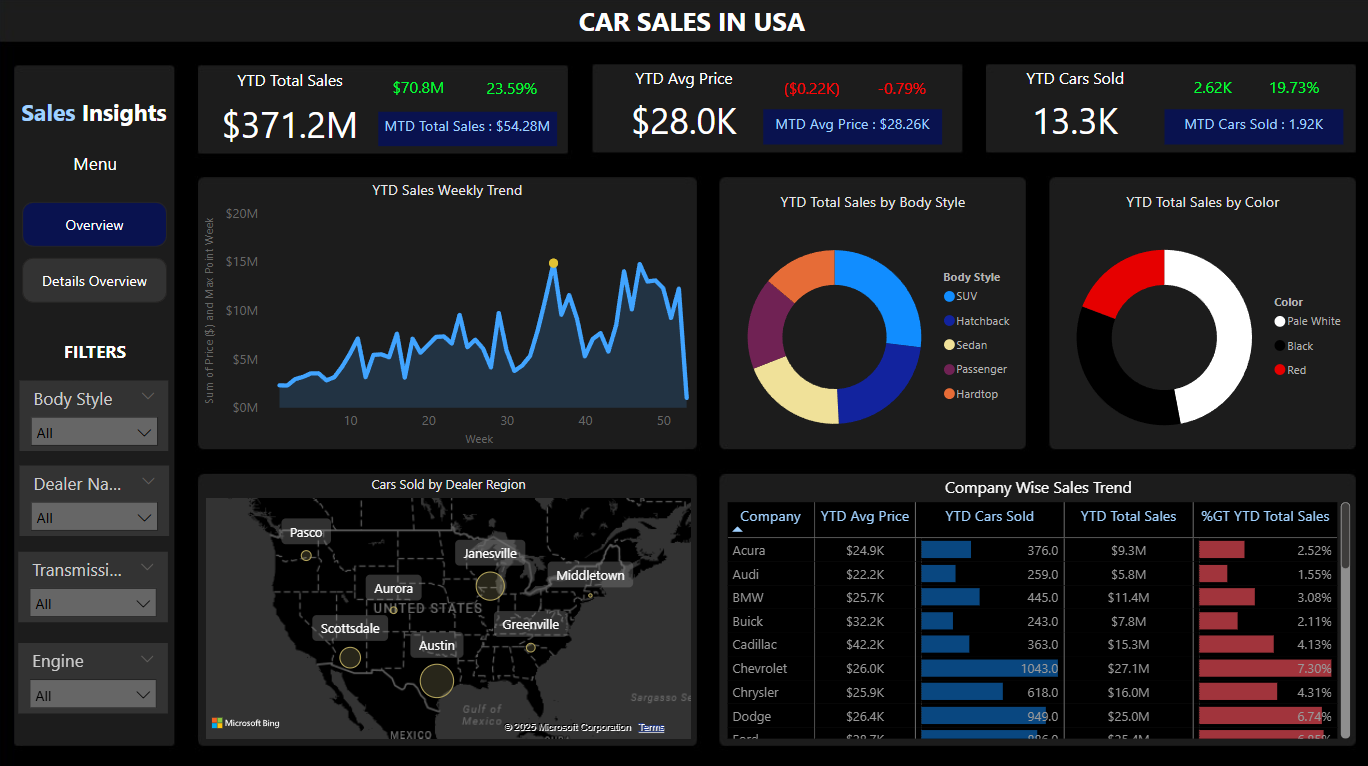

Layout of this report page (visuals, bound fields, positions):
{"tool":"powerbi","page":{"name":"Overview","canvas":[1280,720],"ordinal":0},"visuals":[{"type":"card","title":"YTD Total Sales","fields":{"Values":["car_data.YTD Total Sales"]},"box":[189,66,166,83],"z":0},{"type":"card","fields":{"Values":["car_data.Sales Difference"]},"box":[346.5,64.1,91.2,41.8],"z":1000},{"type":"card","fields":{"Values":["car_data.YOY Sales Growth"]},"box":[437.6,64.7,83.5,41.2],"z":2000},{"type":"card","fields":{"Values":["car_data.MTD KPI"]},"box":[354.7,105.3,166.5,31.8],"z":3000},{"type":"card","title":"YTD Avg Price","fields":{"Values":["car_data.YTD Avg Price"]},"box":[556.2,63.8,166.2,80],"z":4000},{"type":"card","fields":{"Values":["car_data.Avg Price Diff"]},"box":[712.5,65,90,41.2],"z":5000},{"type":"card","fields":{"Values":["car_data.YOY Avg Price"]},"box":[796.2,65,90,41.2],"z":6000},{"type":"card","fields":{"Values":["car_data.MTD Avg Price KPI"]},"box":[712.5,103.8,166.2,32.5],"z":7000},{"type":"card","title":"YTD Avg Price","fields":{"Values":["car_data.YTD Avg Price"]},"box":[1371.7,56.7,168.3,80],"z":8000},{"type":"card","title":"YTD Cars Sold","fields":{"Values":["car_data.YTD Cars Sold"]},"box":[920,63.8,166.2,80],"z":9000},{"type":"card","fields":{"Values":["car_data.Cars Sold Diff"]},"box":[1086,65,90,41],"z":10000},{"type":"card","fields":{"Values":["car_data.YOY Cars Sold Growth"]},"box":[1162,65,90,41],"z":11000},{"type":"card","fields":{"Values":["car_data.MTD Cars Sold KPI"]},"box":[1086.2,103.8,166.2,32.5],"z":12000},{"type":"areaChart","title":"YTD Sales Weekly Trend","fields":{"Category":["Calendar Table.Week"],"Y":["Sum(car_data.Price ($))","car_data.Max Point Week"]},"box":[188.9,168.9,461.1,253.3],"z":13000},{"type":"donutChart","fields":{"Category":["car_data.Body Style"],"Y":["car_data.YTD Total Sales"]},"box":[673,180,283,253],"z":14000},{"type":"donutChart","fields":{"Y":["car_data.YTD Total Sales"],"Category":["car_data.Color"]},"box":[979,180,285,254],"z":15000},{"type":"map","title":"Cars Sold by Dealer Region","fields":{"Category":["car_data.Dealer_Region"],"Size":["car_data.YTD Cars Sold"]},"box":[189,444,461,250],"z":16000},{"type":"tableEx","title":"Company Wise Sales Trend","fields":{"Values":["car_data.Company","car_data.YTD Avg Price","car_data.YTD Cars Sold","car_data.YTD Total Sales","Divide(car_data.YTD Total Sales, ScopedEval(car_data.YTD Total Sales, []))"]},"box":[673.3,444.2,590.8,250],"z":17000},{"type":"textbox","box":[535.7,0,230,42.9],"z":18000},{"type":"slicer","fields":{"Values":["car_data.Body Style"]},"box":[21.4,355.7,138.6,65.7],"z":19000},{"type":"slicer","fields":{"Values":["car_data.Dealer_Name"]},"box":[21.1,434.4,138.9,65.6],"z":20000},{"type":"slicer","fields":{"Values":["car_data.Transmission"]},"box":[20,515.6,138.9,65.6],"z":21000},{"type":"slicer","fields":{"Values":["car_data.Engine"]},"box":[20,600,138.9,65.6],"z":22000},{"type":"textbox","box":[21.7,313.3,138.3,43.3],"z":23000},{"type":"textbox","box":[12,86,157,43],"z":24000},{"type":"textbox","box":[60,137,62,37],"z":25000},{"type":"pageNavigator","box":[23,190,135,95],"z":26000}]}

Visuals, with their boxes in screenshot pixels (x1, y1, x2, y2), scaled from the page's 1280x720 canvas onto the 1368x766 screenshot:
"YTD Total Sales" card: (202, 70, 379, 159)
card - car_data.Sales Difference: (370, 68, 468, 113)
card - car_data.YOY Sales Growth: (468, 69, 557, 113)
card - car_data.MTD KPI: (379, 112, 557, 146)
"YTD Avg Price" card: (594, 68, 772, 153)
card - car_data.Avg Price Diff: (761, 69, 858, 113)
card - car_data.YOY Avg Price: (851, 69, 947, 113)
card - car_data.MTD Avg Price KPI: (761, 110, 939, 145)
"YTD Cars Sold" card: (983, 68, 1161, 153)
card - car_data.Cars Sold Diff: (1161, 69, 1257, 113)
card - car_data.YOY Cars Sold Growth: (1242, 69, 1338, 113)
card - car_data.MTD Cars Sold KPI: (1161, 110, 1339, 145)
"YTD Sales Weekly Trend" areaChart: (202, 180, 695, 449)
donutChart - car_data.Body Style x car_data.YTD Total Sales: (719, 192, 1022, 461)
donutChart - car_data.YTD Total Sales x car_data.Color: (1046, 192, 1351, 462)
"Cars Sold by Dealer Region" map: (202, 472, 695, 738)
"Company Wise Sales Trend" tableEx: (720, 473, 1351, 739)
textbox: (573, 0, 818, 46)
slicer - car_data.Body Style: (23, 378, 171, 448)
slicer - car_data.Dealer_Name: (23, 462, 171, 532)
slicer - car_data.Transmission: (21, 549, 170, 618)
slicer - car_data.Engine: (21, 638, 170, 708)
textbox: (23, 333, 171, 379)
textbox: (13, 91, 181, 137)
textbox: (64, 146, 130, 185)
pageNavigator: (25, 202, 169, 303)
